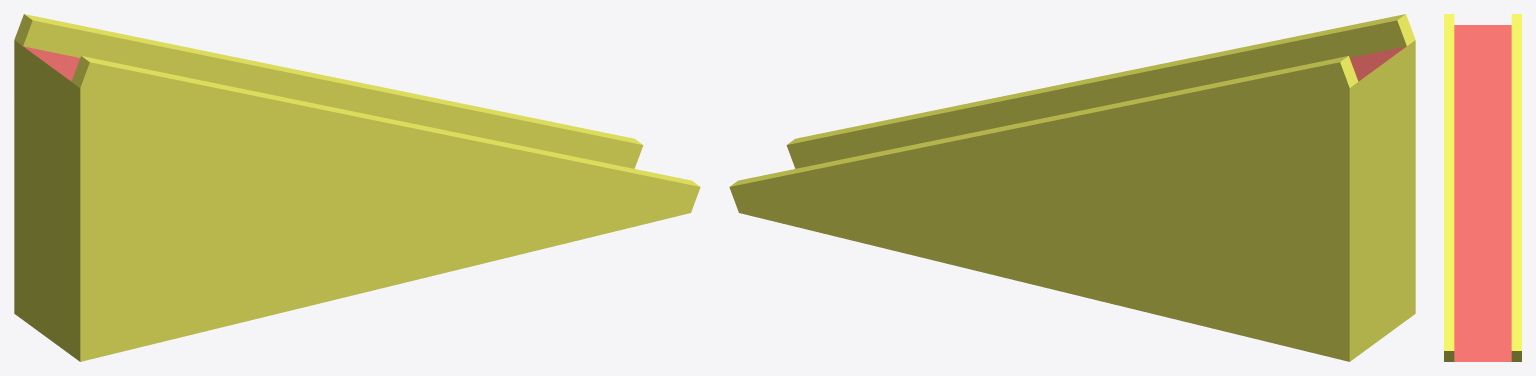
The model's file is Rampa_do_respawn.fbx.
3 views of the same model, side by side, from view 1: azimuth 30°, elevation 25°; view 2: azimuth 150°, elevation 25°; view 3: azimuth 270°, elevation 25° (orthographic). The views are drawn at different scales.
Parts seen in each view (by area): view 1: Rampa_C/Corrimao.002; view 2: Rampa_C/Corrimao.002; view 3: Rampa_C/Corrimao.002.
Part boxes in pixels (left/top/right/bottom): Rampa_C/Corrimao.002: left=14, top=14, right=700, bottom=361; Rampa_C/Corrimao.002: left=729, top=14, right=1415, bottom=361; Rampa_C/Corrimao.002: left=1444, top=14, right=1521, bottom=361.
Bounding box in the file's own units: 1900 × 870 × 350.
